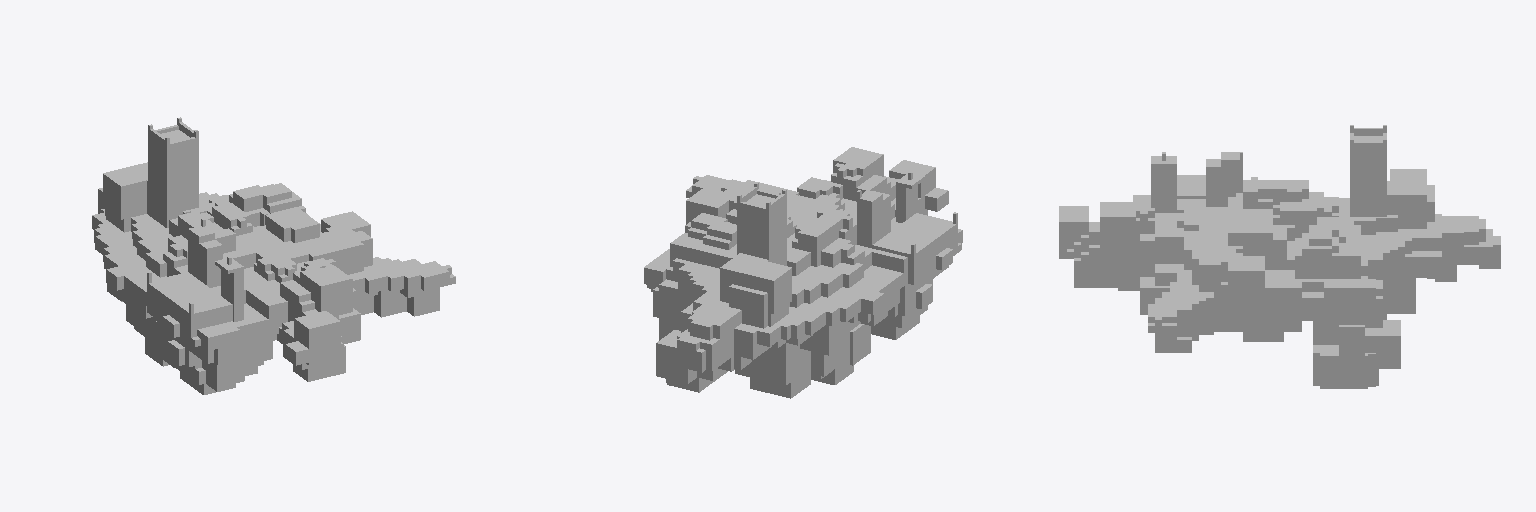
The model's file is Big Asteroid Base 02.obj.
3 renders of one model, left to right at view 1: azimuth 30°, elevation 25°; view 2: azimuth 150°, elevation 25°; view 3: azimuth 270°, elevation 25°, orthographic.
Parts seen in each view (by area): view 1: Asteroid Base 02; view 2: Asteroid Base 02; view 3: Asteroid Base 02.
Part boxes in pixels (x1,y1,x2,y2): Asteroid Base 02: (92,117,455,394); Asteroid Base 02: (644,147,962,398); Asteroid Base 02: (1059,125,1500,388).
Size of the model in its own units: 84 by 63 by 120.